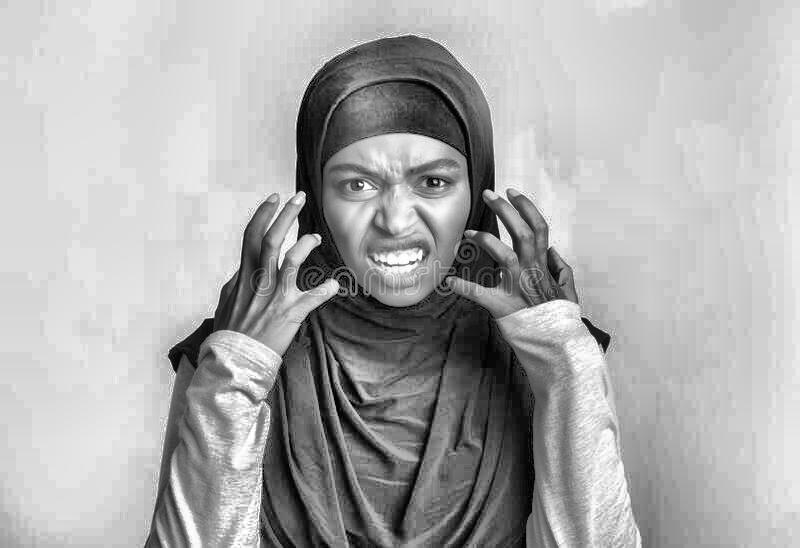angry: (286, 39, 528, 325)
